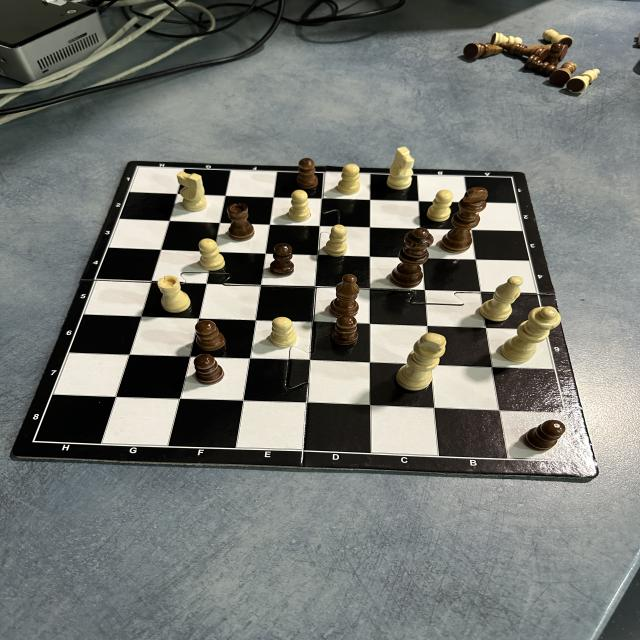Black-Bishop: (329, 274, 358, 318), (502, 42, 549, 59)
Black-King: (440, 187, 488, 252)
Black-Knight: (464, 43, 502, 58)
Black-Pawn: (525, 420, 565, 450), (193, 354, 224, 386), (196, 320, 226, 351), (270, 243, 294, 276), (332, 316, 358, 346), (296, 158, 318, 189), (525, 55, 556, 75), (546, 43, 562, 67)
Black-Queen: (391, 228, 433, 288)
Black-Rook: (227, 204, 254, 241), (548, 61, 578, 87)
White-Bishop: (480, 276, 522, 322), (566, 67, 602, 94)
White-King: (396, 332, 446, 390)
White-Knight: (177, 172, 207, 212), (386, 147, 414, 189)
White-Pawn: (269, 317, 297, 347), (199, 238, 225, 270), (427, 190, 453, 222), (324, 224, 346, 256), (288, 190, 310, 222), (338, 164, 360, 194), (491, 32, 522, 44)
White-Queen: (501, 306, 562, 362)
White-Rook: (158, 276, 190, 312), (542, 29, 572, 48)
